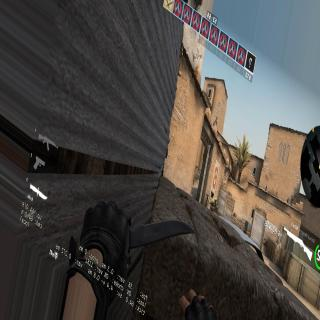CT-Body: (207, 186, 220, 212)
CT-Head: (210, 187, 214, 198)
